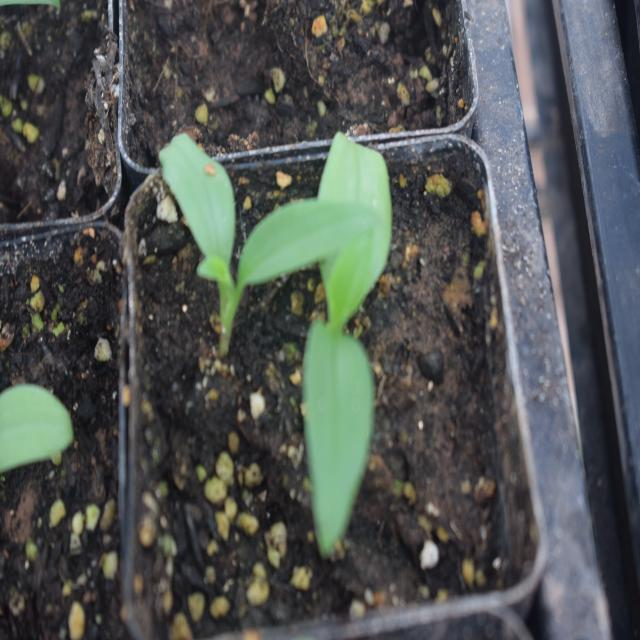Common Dayflower: (282, 128, 403, 557), (160, 126, 276, 342)
